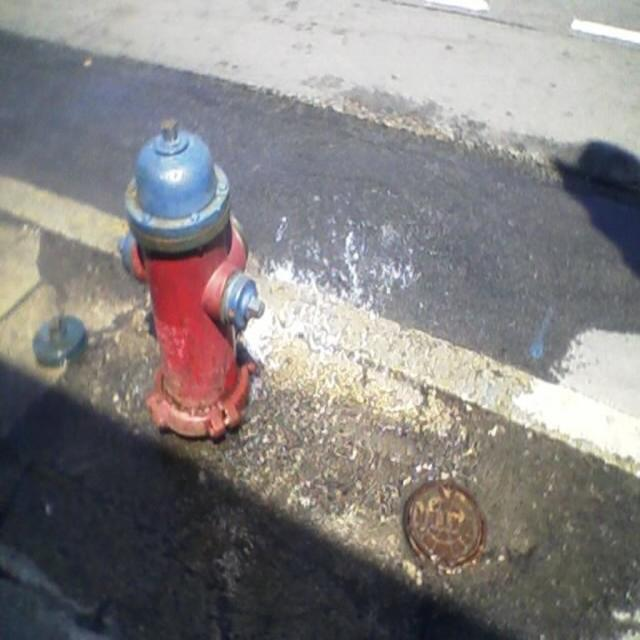fire_hydrant: (117, 120, 266, 439)
